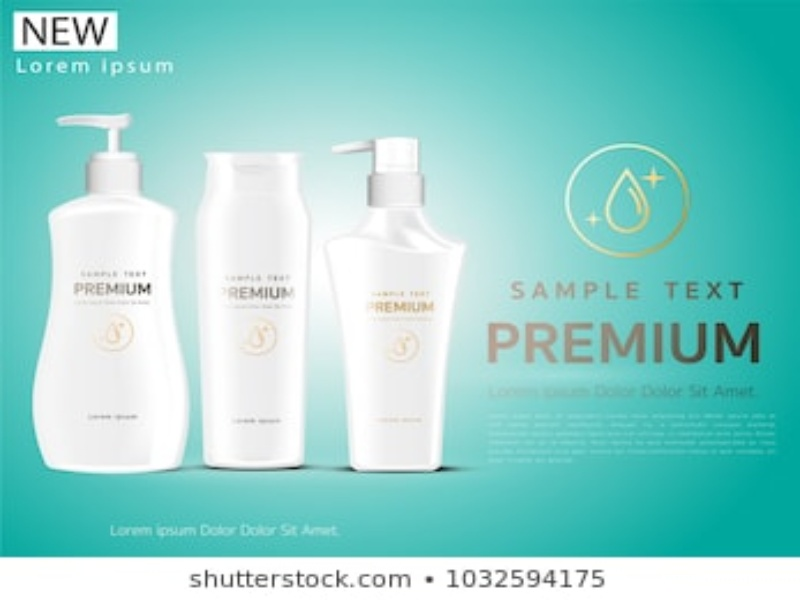shampoo-bottle: (34, 109, 195, 474), (320, 130, 460, 474), (190, 141, 315, 473)
